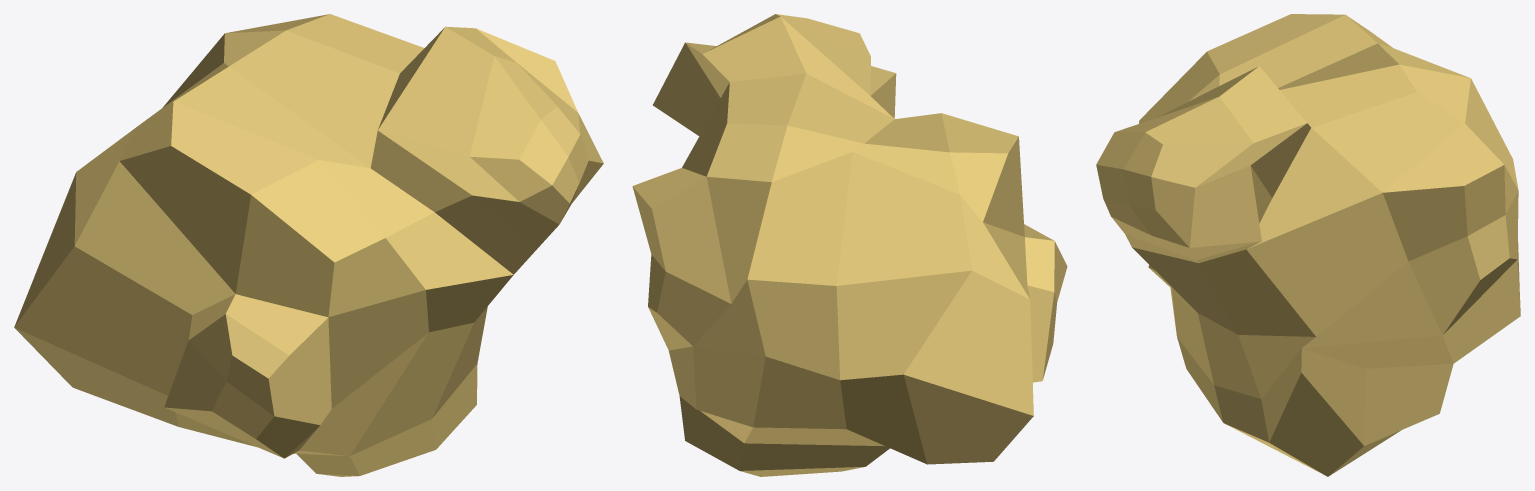
File: popcorn2.fbx
3 renders of one model, left to right at view 1: azimuth 30°, elevation 25°; view 2: azimuth 150°, elevation 25°; view 3: azimuth 270°, elevation 25°, orthographic. The views are drawn at different scales.
Visible parts, largest first — view 1: POPCORN.003; view 2: POPCORN.003; view 3: POPCORN.003.
Boxes of the visible parts, <box> form: POPCORN.003: <box>14,14,603,476</box>; POPCORN.003: <box>632,14,1067,476</box>; POPCORN.003: <box>1096,14,1520,476</box>.
Bounding box in the file's own units: 59.48 × 53.47 × 49.21.
